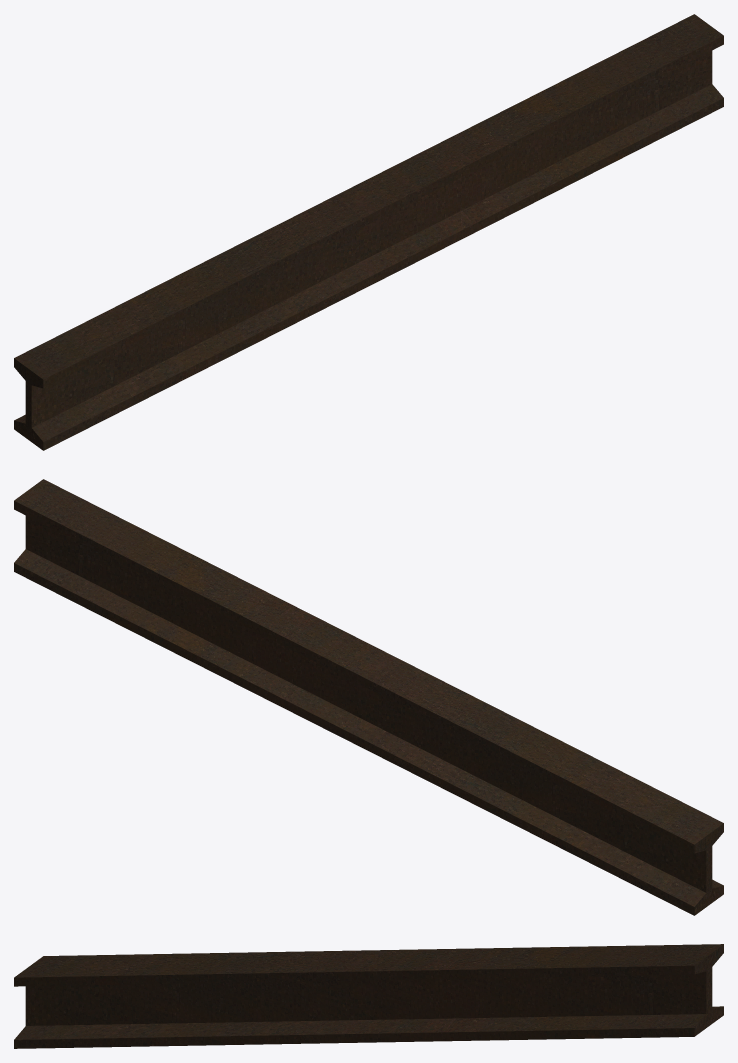
File: beam_hc_horizonatal_2.glb
3 views of the same model, one above another, from view 1: azimuth 30°, elevation 25°; view 2: azimuth 150°, elevation 25°; view 3: azimuth 330°, elevation 25° (orthographic).
Parts seen in each view (by area): view 1: beam_hc_horizonatal_2; view 2: beam_hc_horizonatal_2; view 3: beam_hc_horizonatal_2.
Part boxes in pixels (box(x1,y1,x2,y2)): beam_hc_horizonatal_2: box(14, 14, 723, 450); beam_hc_horizonatal_2: box(14, 479, 723, 915); beam_hc_horizonatal_2: box(14, 944, 723, 1048).
Bounding box in the file's own units: 4 × 1.4 × 0.3.
1 material, 1 textured.
